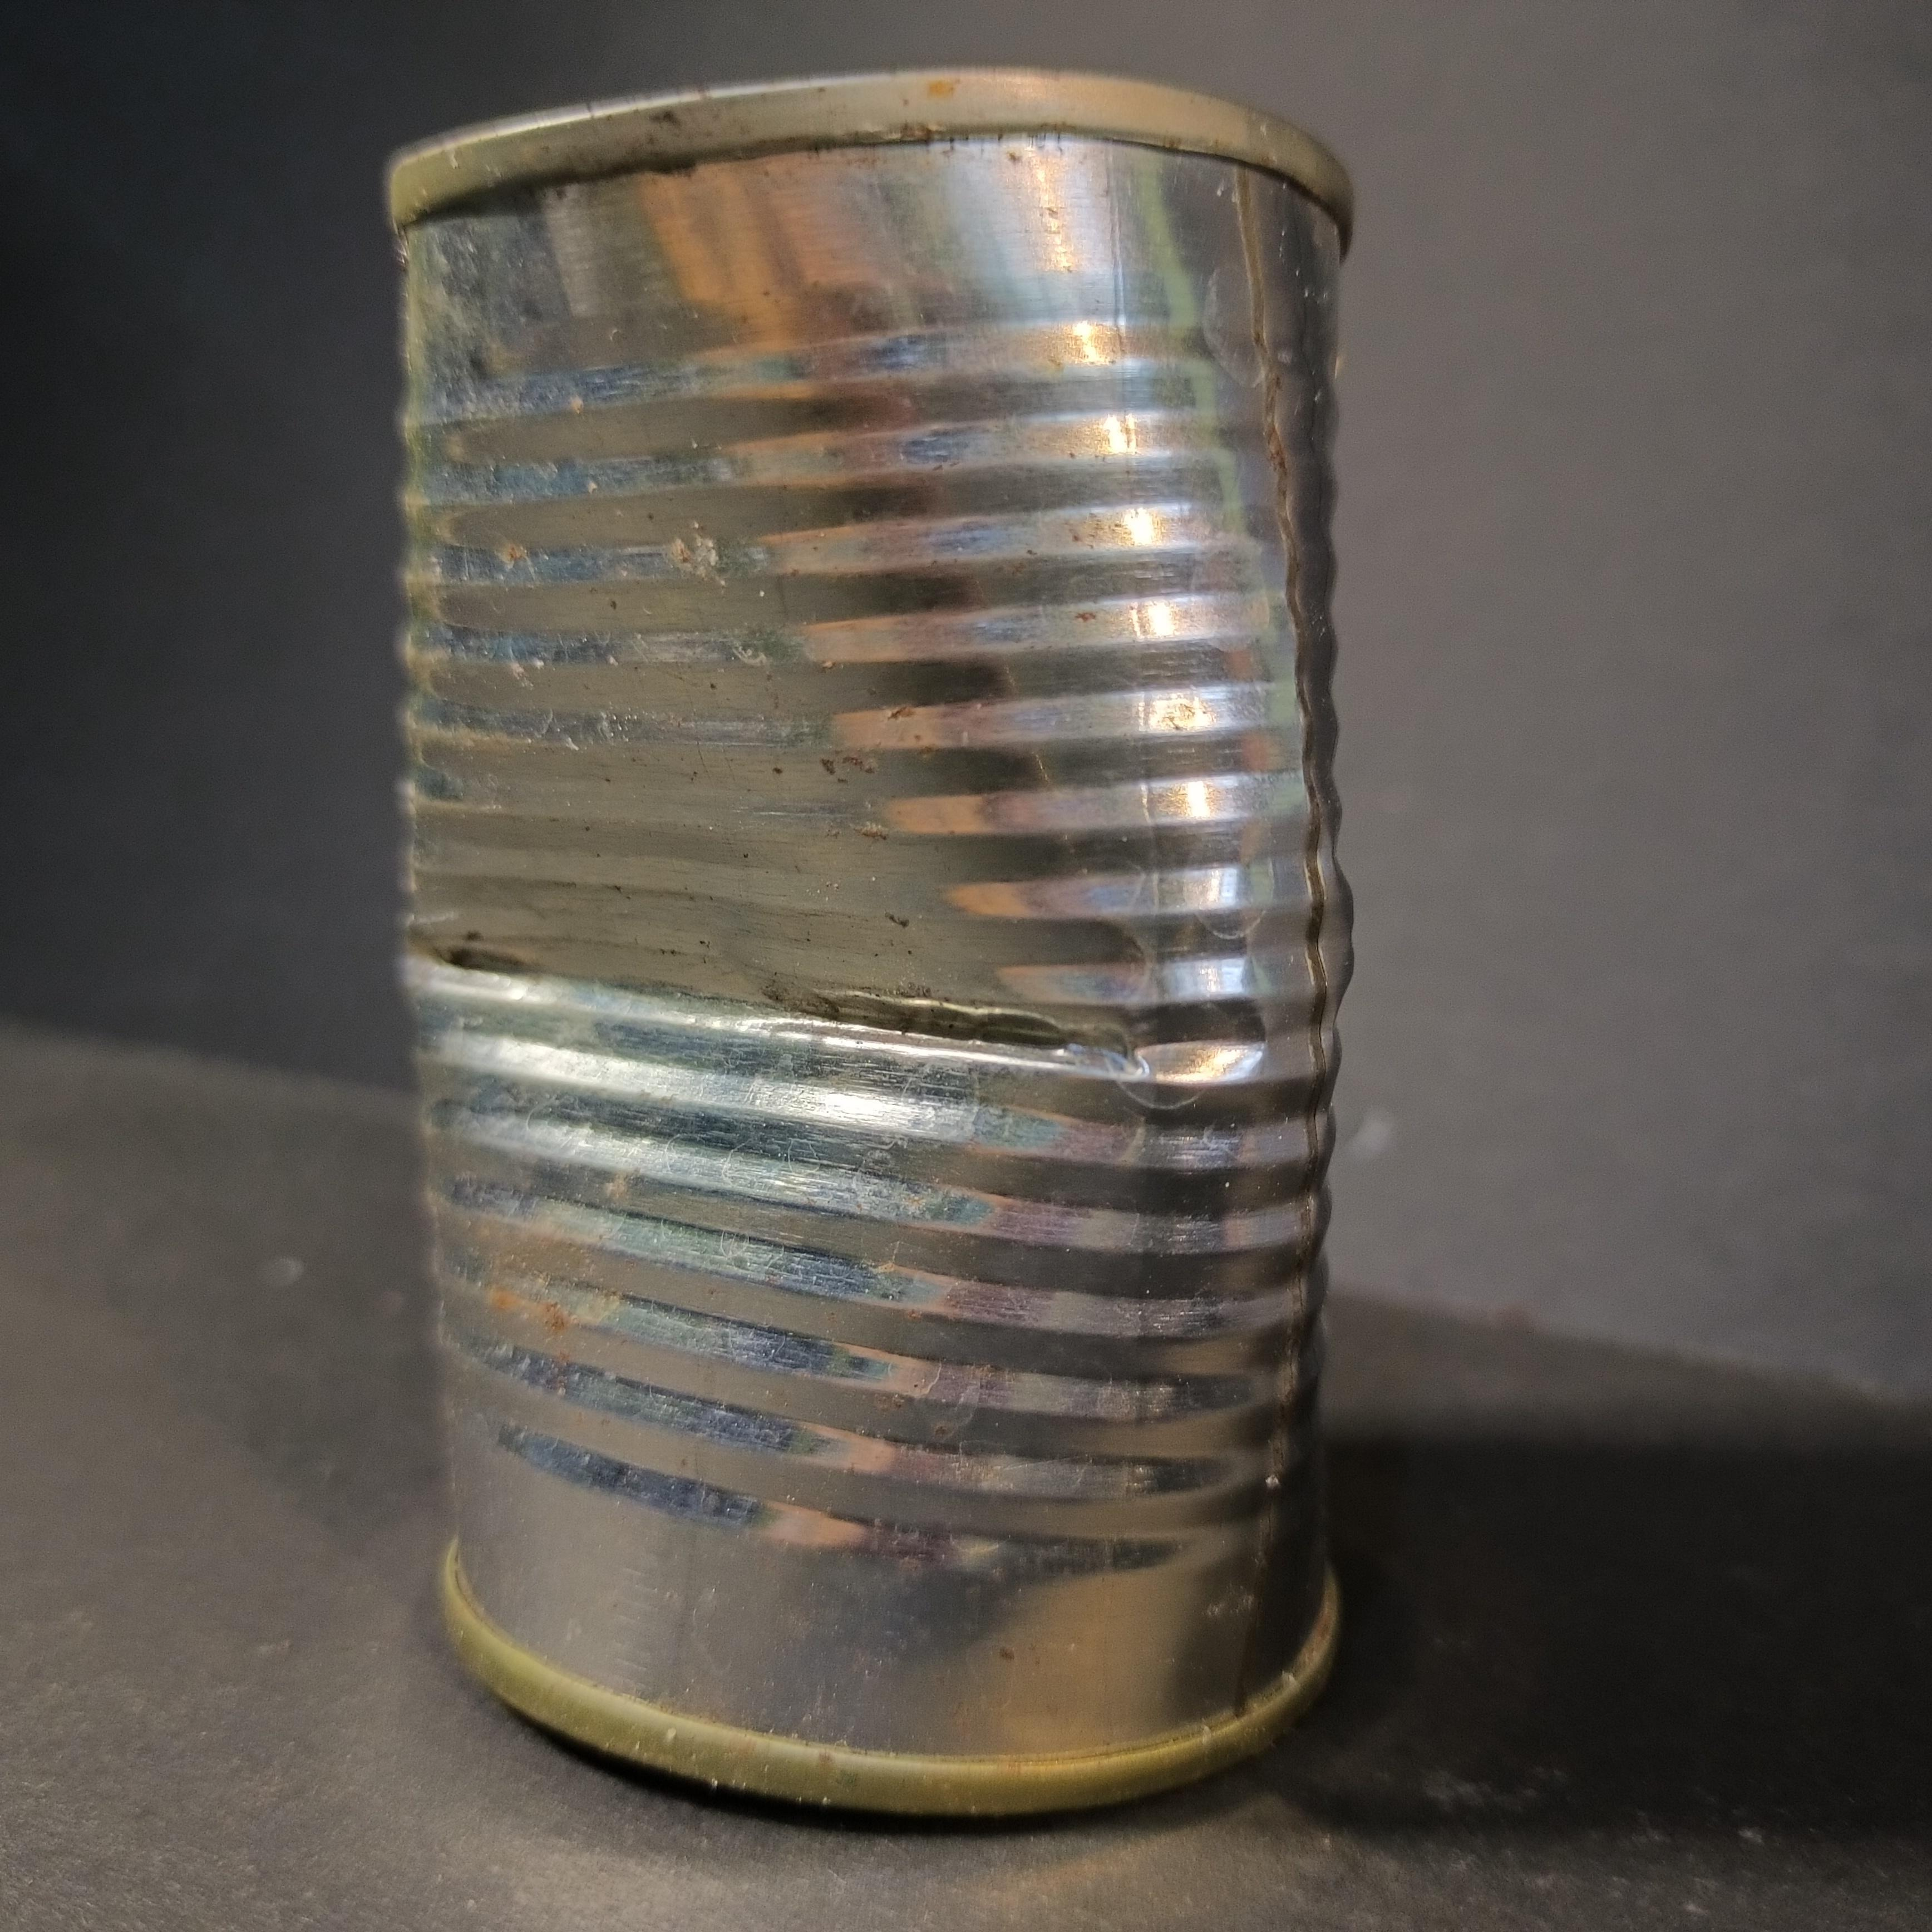Dented: (331, 35, 1444, 1886)
